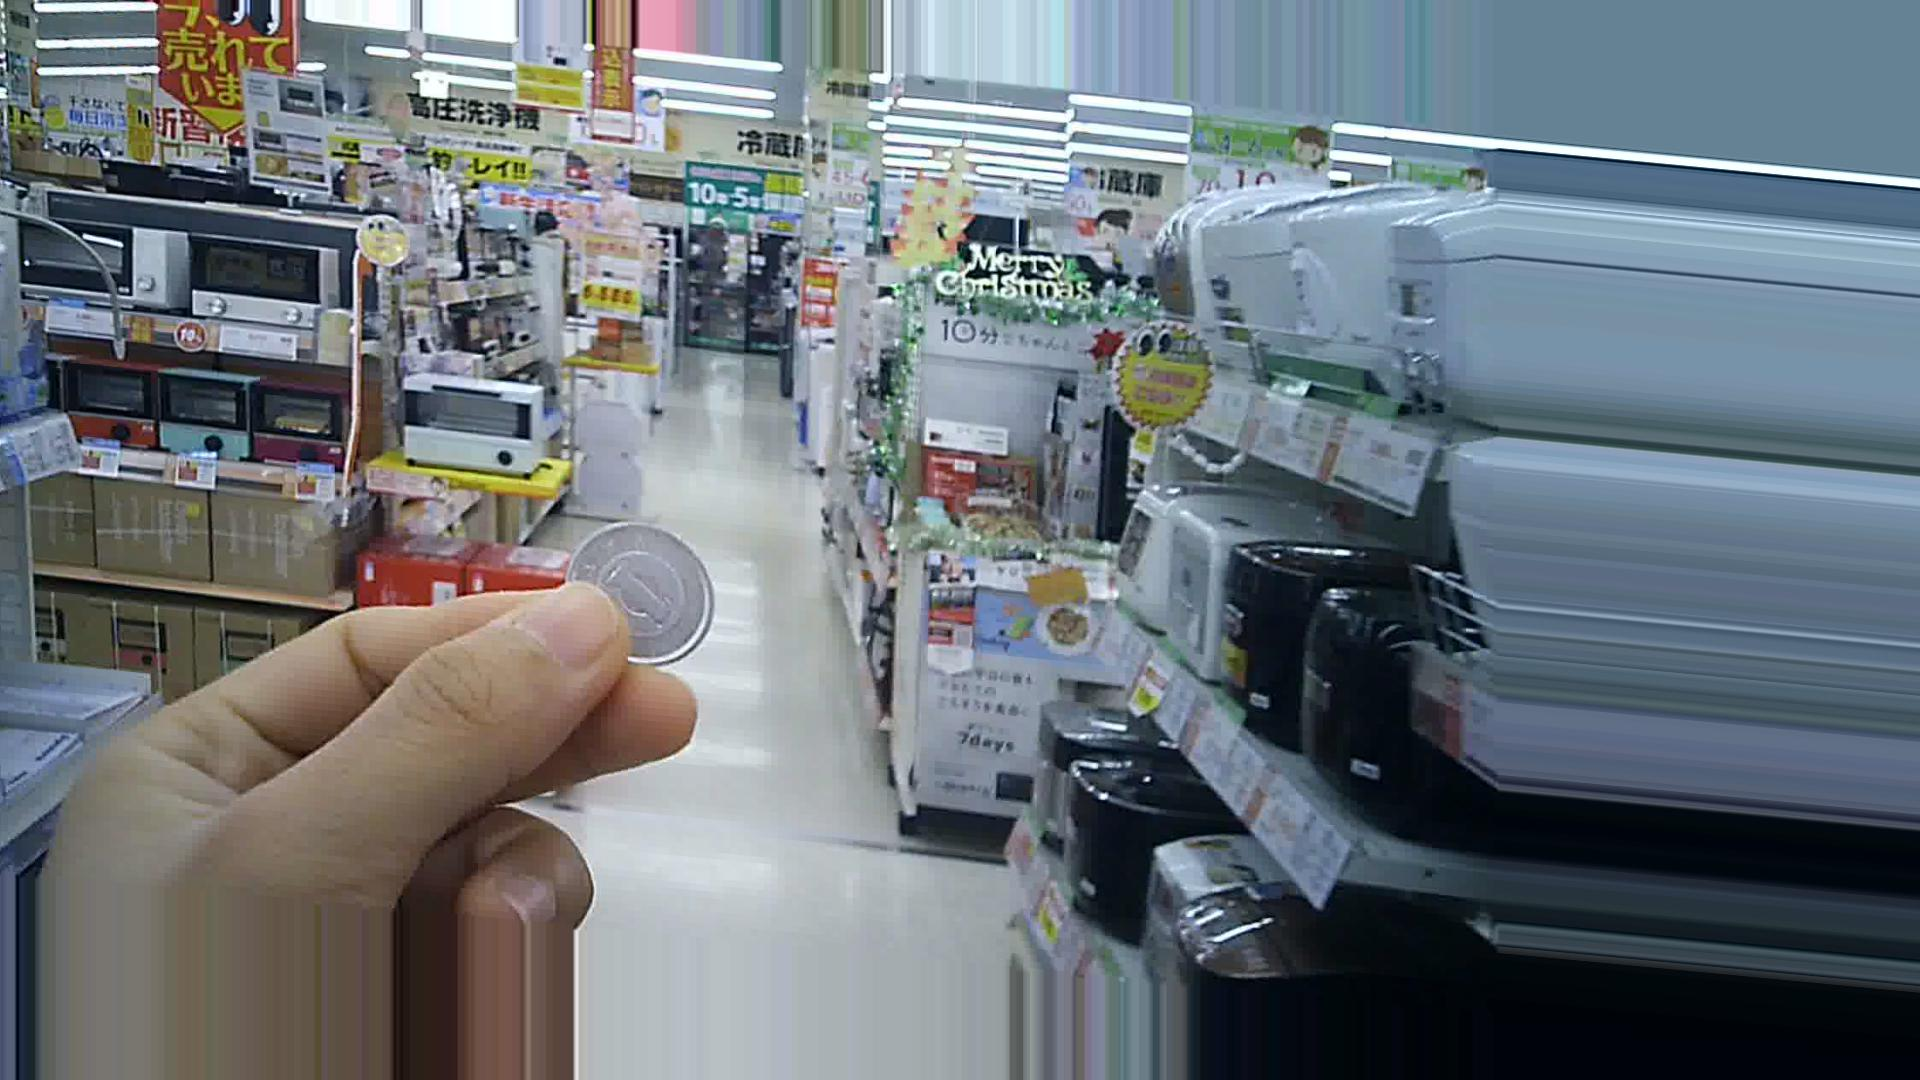1 Yen: (541, 509, 720, 678)
